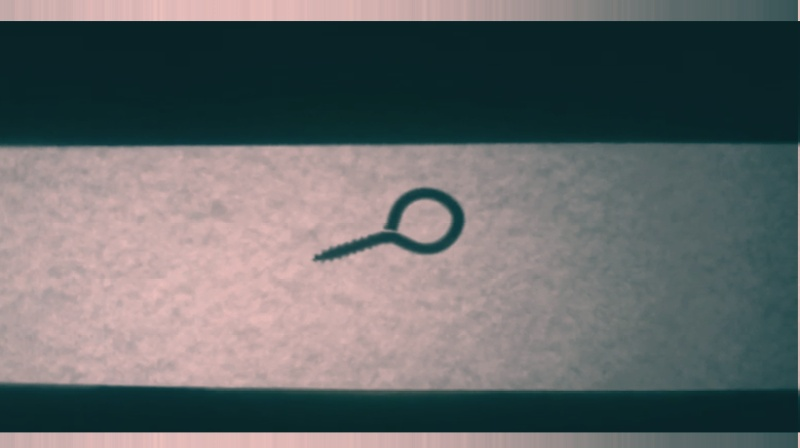O001: (309, 185, 468, 266)
